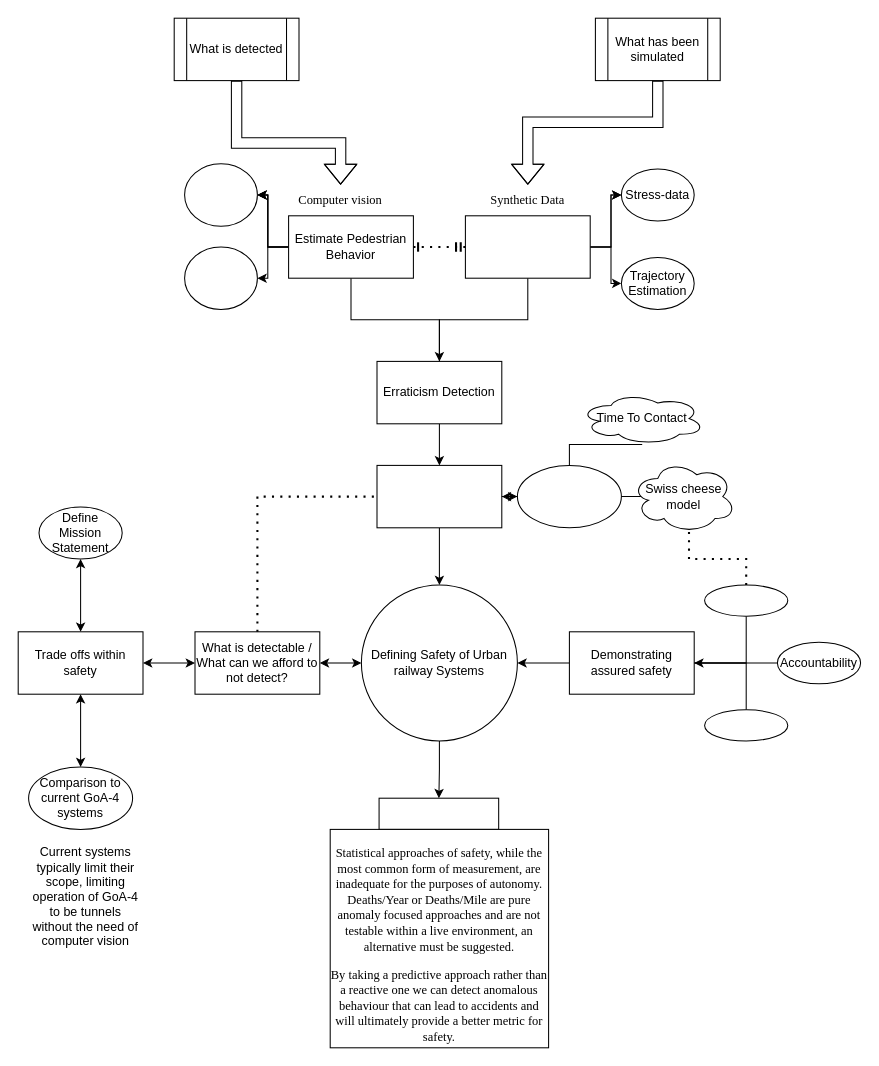
The diagram is 879 pixels wide and 1066 high, and some of its shapes have lost their labels. The centre of each missing label's shape, as x and y in pixels:
Clarity: (x=746, y=725)
Identify anomalous situations: (x=527, y=246)
Key hypothesis: (x=438, y=813)
Mathematical Model of Safety: (x=568, y=496)
Mitigation: (x=746, y=600)
Model how Accidents happen: (x=439, y=496)
Pedestrian Psychology: (x=220, y=194)
Previous Accidents: (x=220, y=277)
